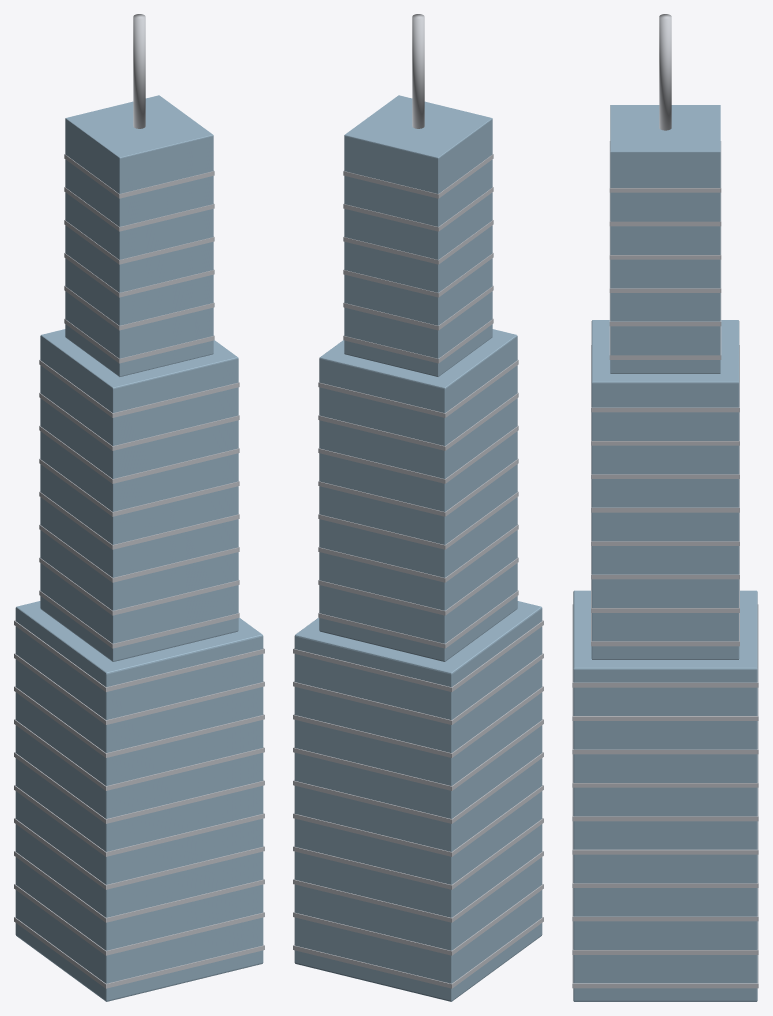
Rendered from skyscraper.glb.
3 renders of one model, left to right at view 1: azimuth 30°, elevation 25°; view 2: azimuth 150°, elevation 25°; view 3: azimuth 270°, elevation 25°, orthographic.
Visible parts, largest first — view 1: Cube; view 2: Cube; view 3: Cube.
Boxes of the visible parts, <box> form: Cube: <box>14,14,264,1001</box>; Cube: <box>293,14,543,1001</box>; Cube: <box>572,14,758,1001</box>.
Bounding box in the file's own units: 0.2139 × 1.2 × 0.2139.
